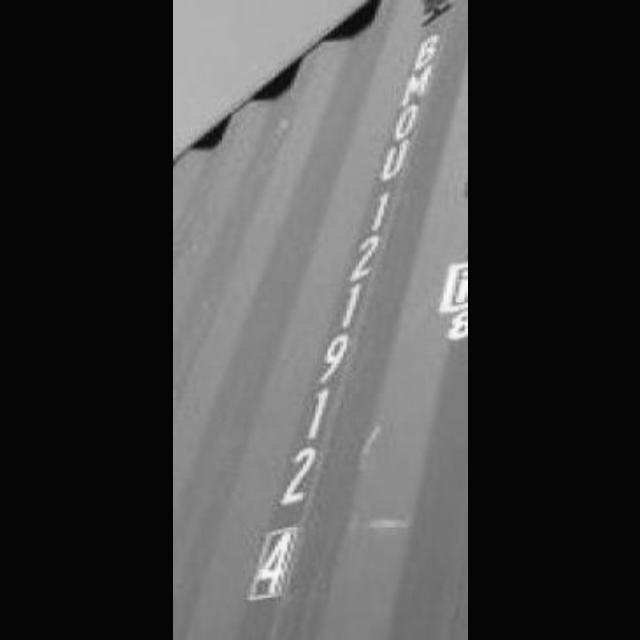1: (364, 183, 404, 237), (298, 388, 336, 444), (335, 282, 373, 336)
2: (281, 443, 323, 511), (350, 234, 382, 286)
4: (250, 524, 304, 598)
8: (443, 308, 467, 340)
9: (314, 333, 358, 391)
b: (408, 27, 444, 67)
m: (396, 63, 436, 114)
o: (386, 102, 424, 144)
u: (376, 138, 410, 185)
